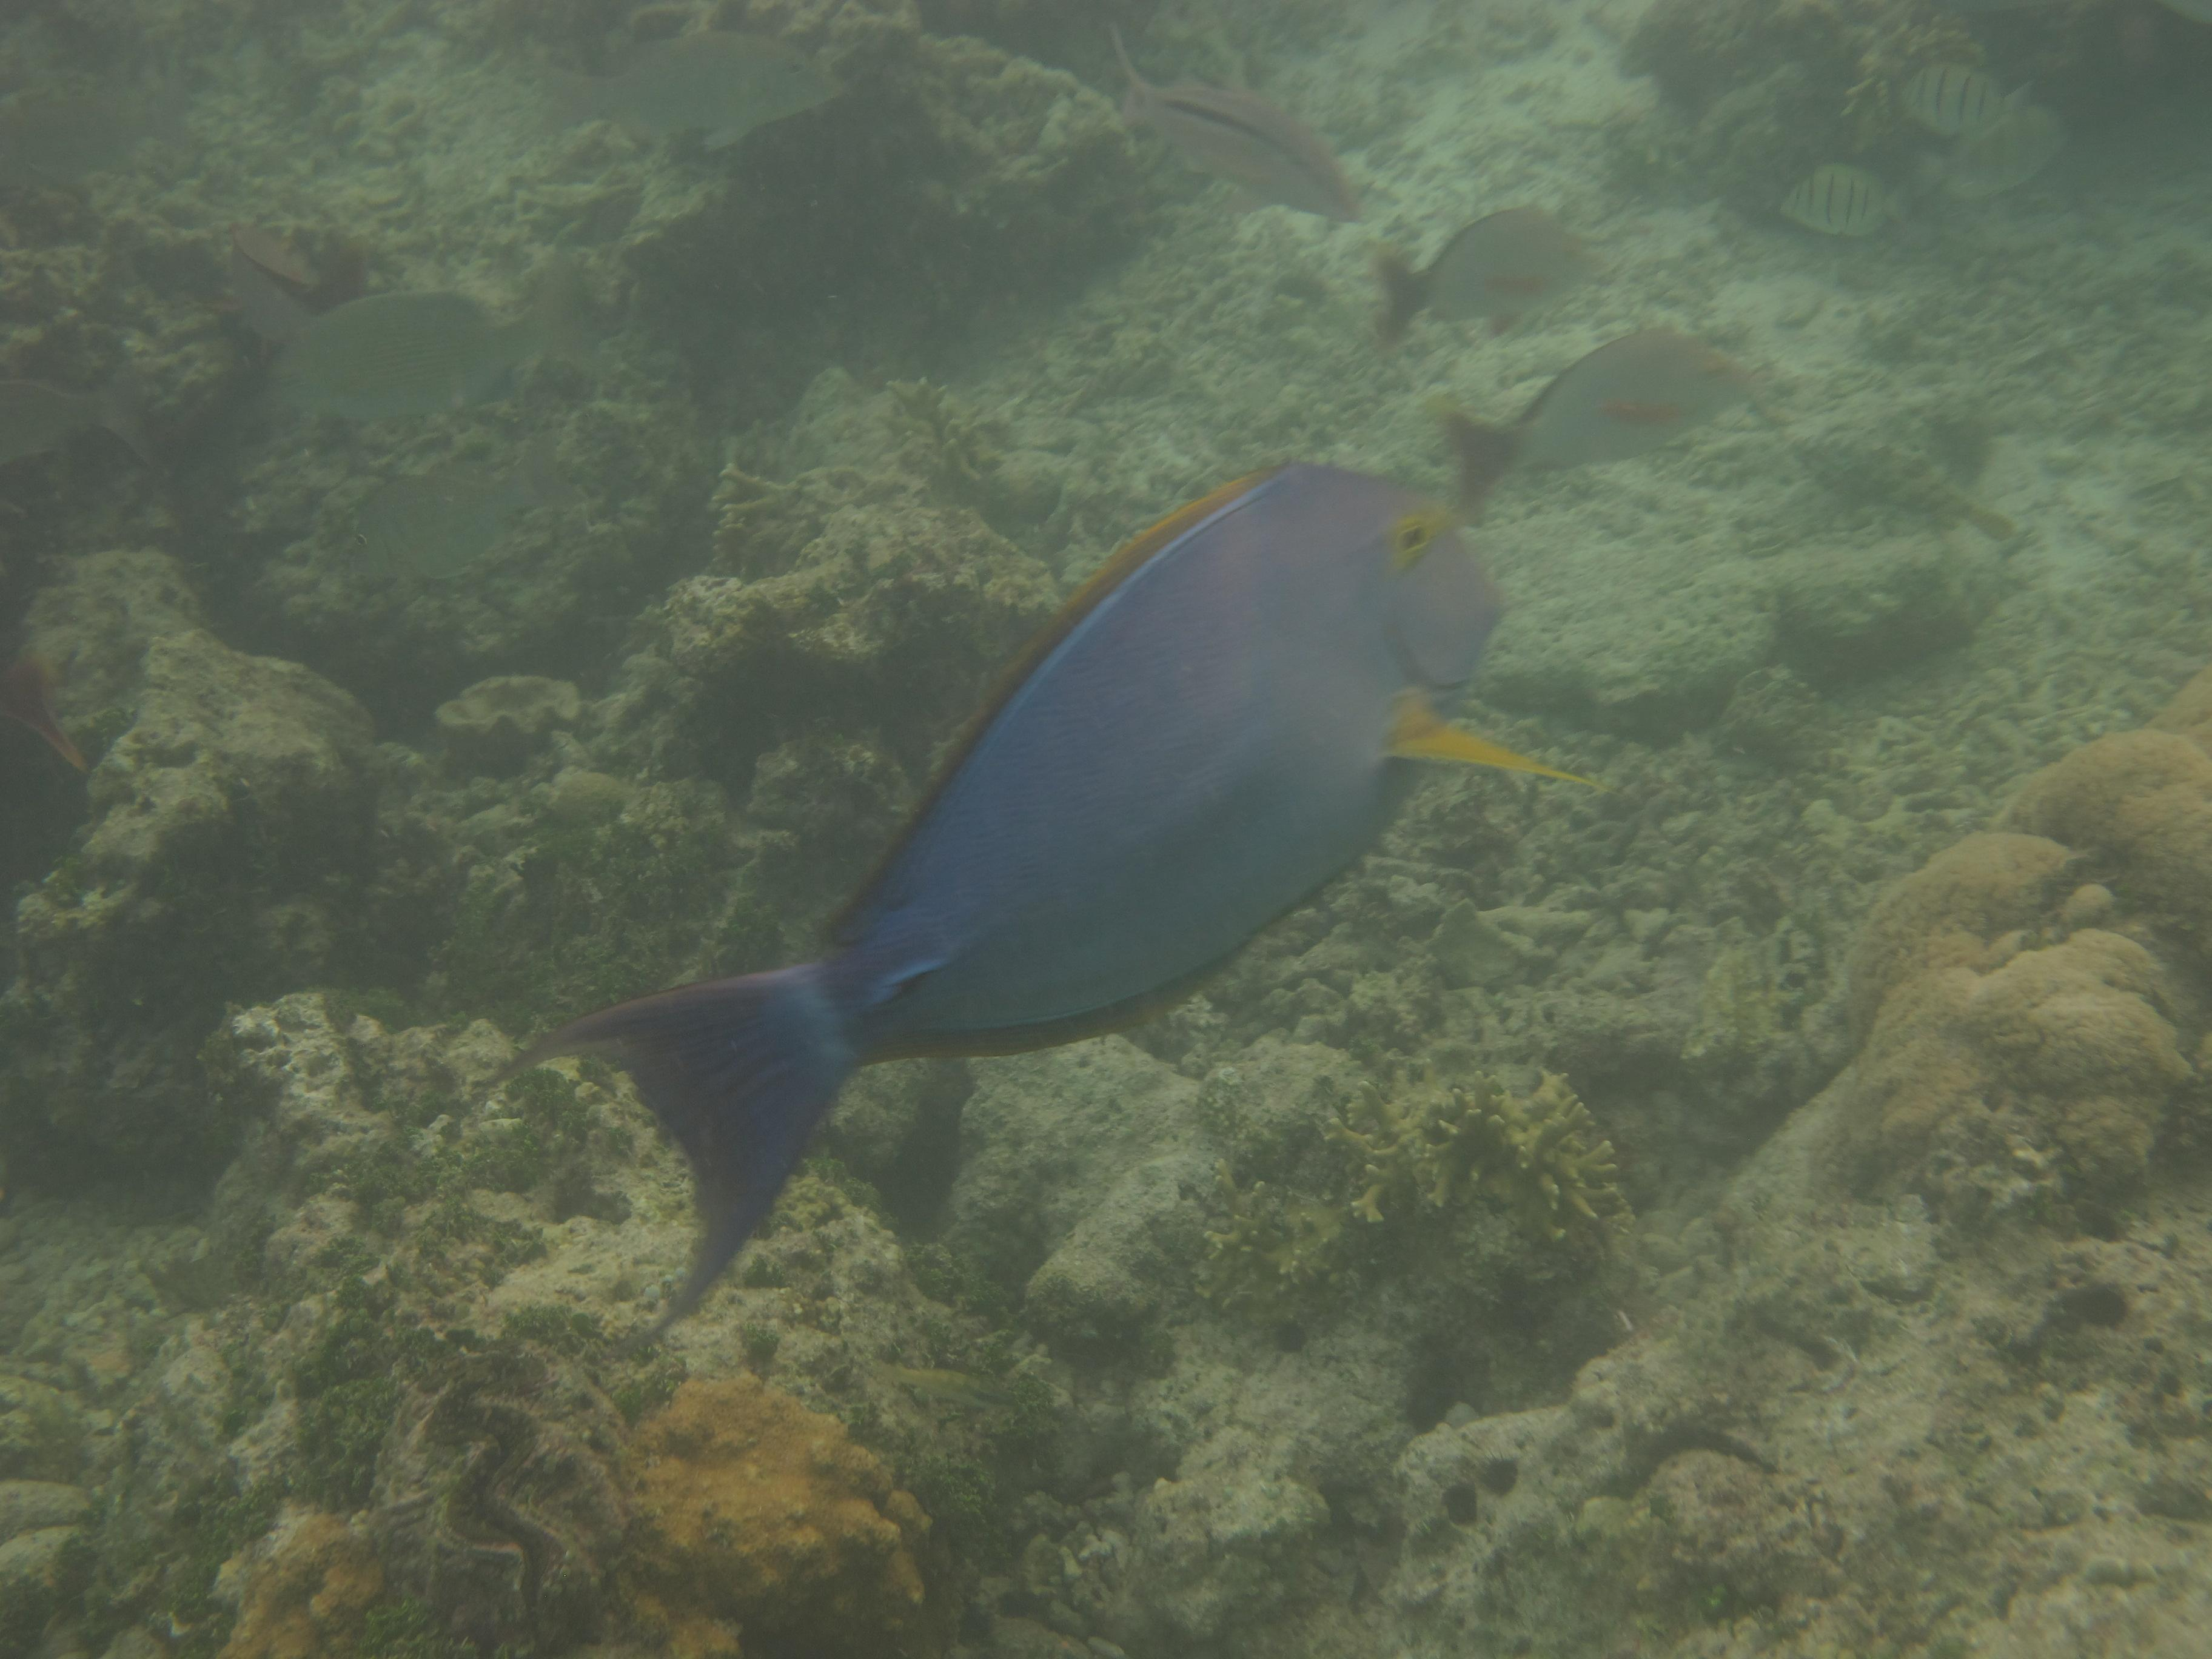Fish: (545, 439, 1580, 1364)
